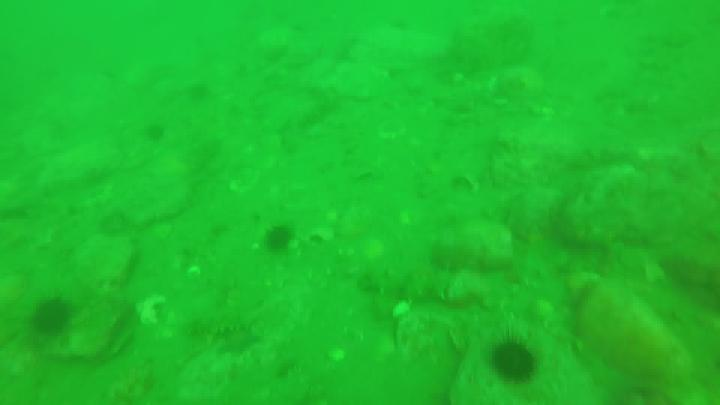echinus: (490, 333, 541, 386), (28, 296, 78, 341), (263, 220, 293, 253), (186, 81, 216, 110), (145, 123, 169, 149)
holothurian: (357, 268, 478, 305), (186, 310, 264, 334)
